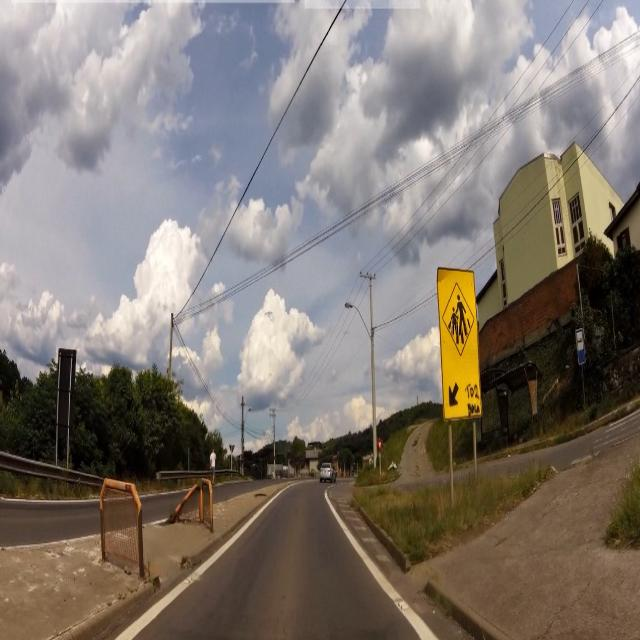A-32b: (440, 274, 479, 358)
